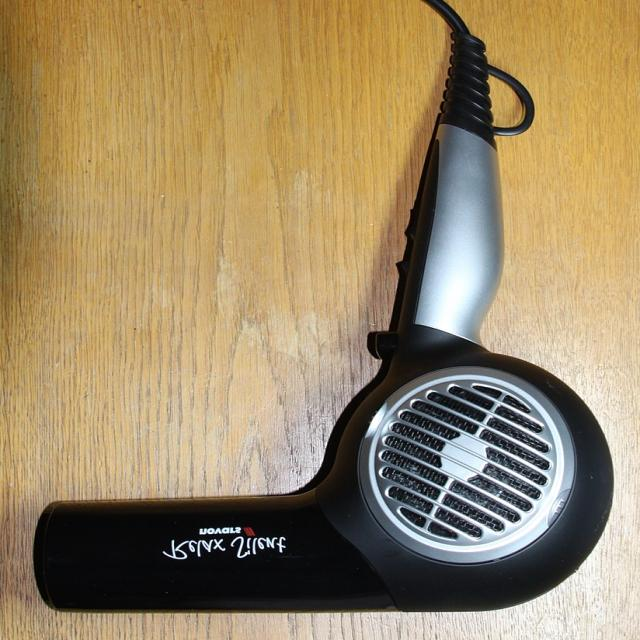dryer: (31, 30, 615, 614)
